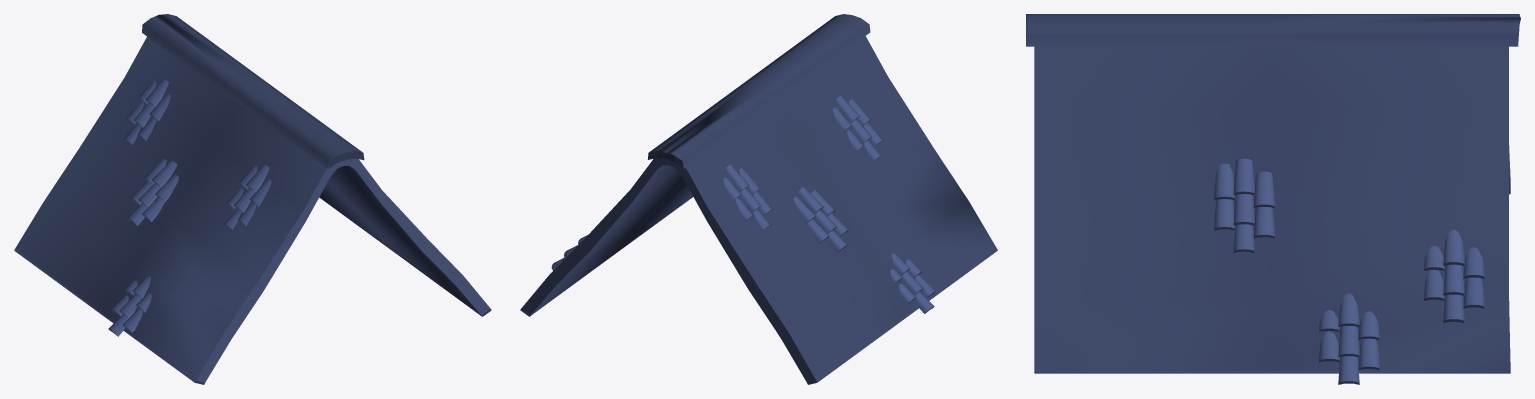
Rendered from BlueRoofing1.fbx.
3 renders of one model, left to right at view 1: azimuth 30°, elevation 25°; view 2: azimuth 150°, elevation 25°; view 3: azimuth 270°, elevation 25°, orthographic. The views are drawn at different scales.
Parts seen in each view (by area): view 1: Cube.073, Cube.075, Cube.083; view 2: Cube.073, Cube.075, Cube.083; view 3: Cube.073, Cube.075, Cube.083.
Part boxes in pixels (x1=…): Cube.073: x1=14, y1=37, x2=491, y2=384; Cube.075: x1=142, y1=14, x2=364, y2=168; Cube.083: x1=108, y1=78, x2=271, y2=336; Cube.073: x1=520, y1=36, x2=997, y2=384; Cube.075: x1=647, y1=14, x2=870, y2=168; Cube.083: x1=551, y1=95, x2=935, y2=313; Cube.073: x1=1034, y1=46, x2=1510, y2=373; Cube.075: x1=1026, y1=14, x2=1520, y2=46; Cube.083: x1=1214, y1=158, x2=1484, y2=384.
Bounding box in the file's own units: 938 × 963 × 571.
